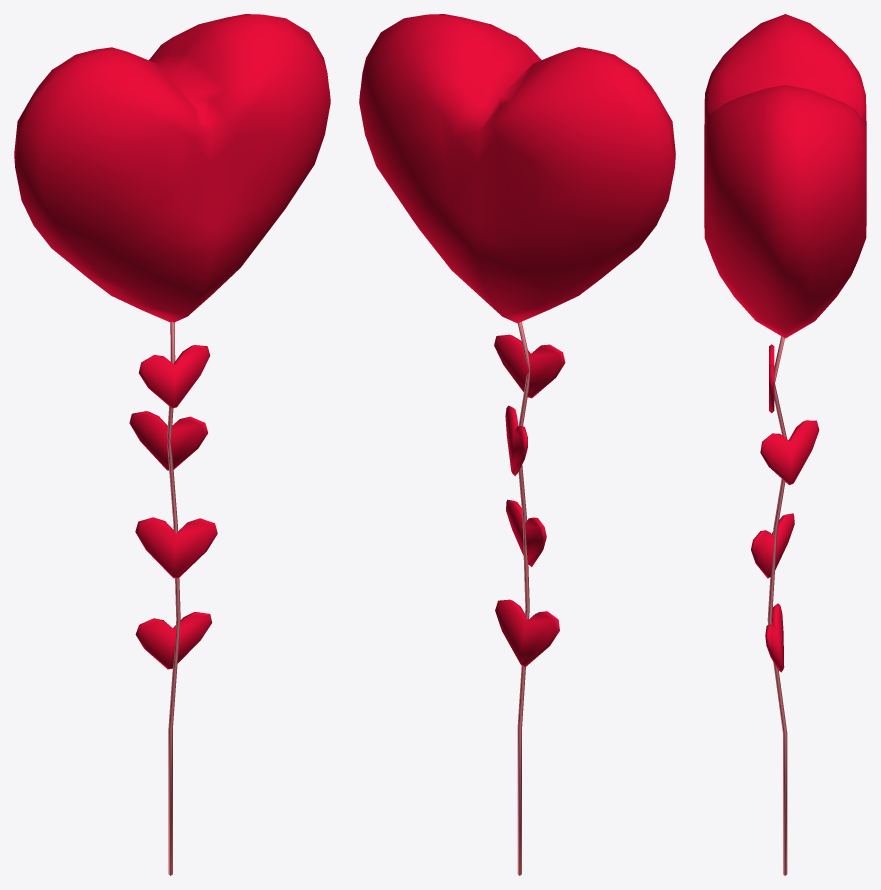
File: balloon_heart.glb
3 views of the same model, side by side, from view 1: azimuth 30°, elevation 25°; view 2: azimuth 150°, elevation 25°; view 3: azimuth 270°, elevation 25° (orthographic). The views are drawn at different scales.
Visible parts, largest first — view 1: 0.029, 1.025; view 2: 0.029, 1.025; view 3: 0.029, 1.025.
Boxes of the visible parts, x1,y1,x2,y2 form: 0.029: (14,14,330,669); 1.025: (167,322,180,875); 0.029: (359,14,675,666); 1.025: (517,321,529,875); 0.029: (704,14,866,672); 1.025: (767,336,787,875).
Bounding box in the file's own units: 0.6059 × 1.55 × 0.2781.
